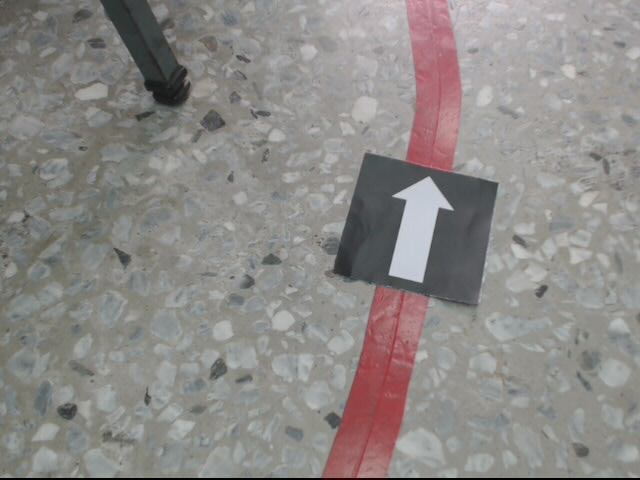straight: (334, 151, 501, 305)
